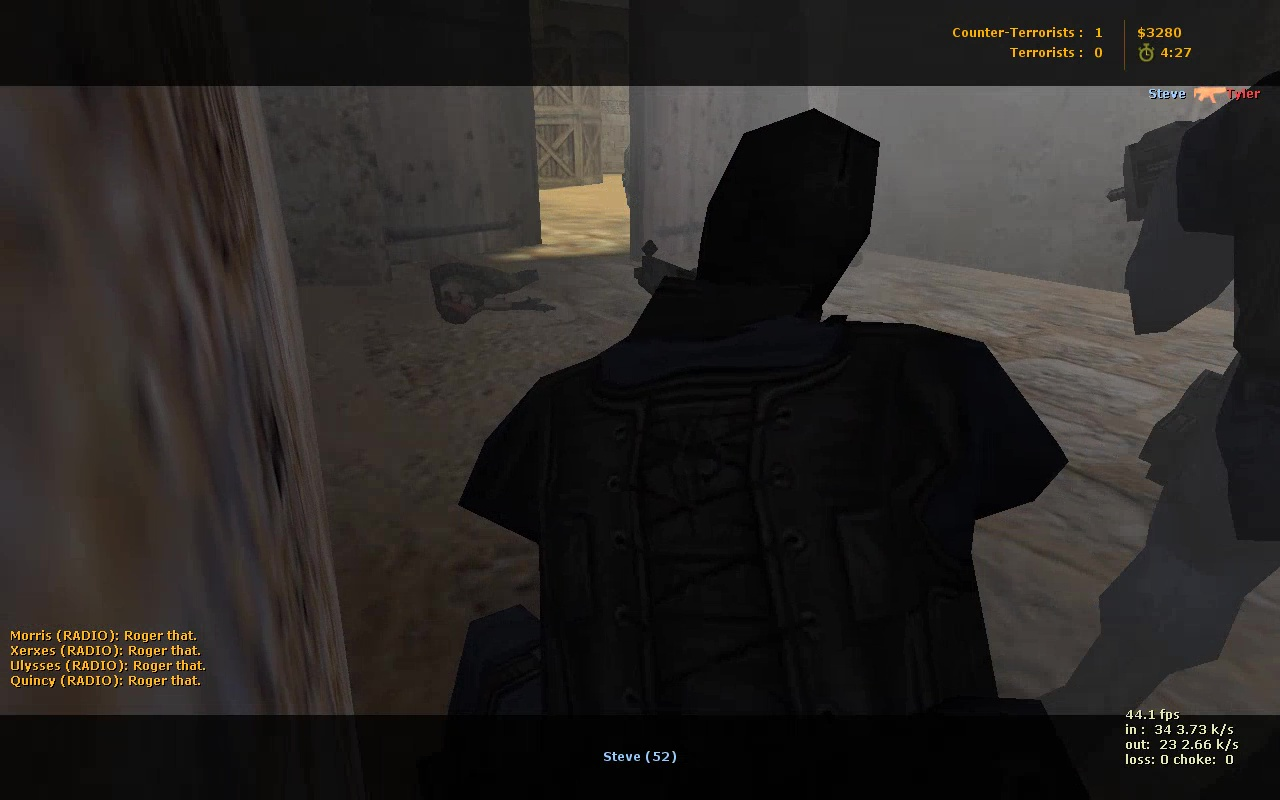dead: (423, 258, 558, 322)
